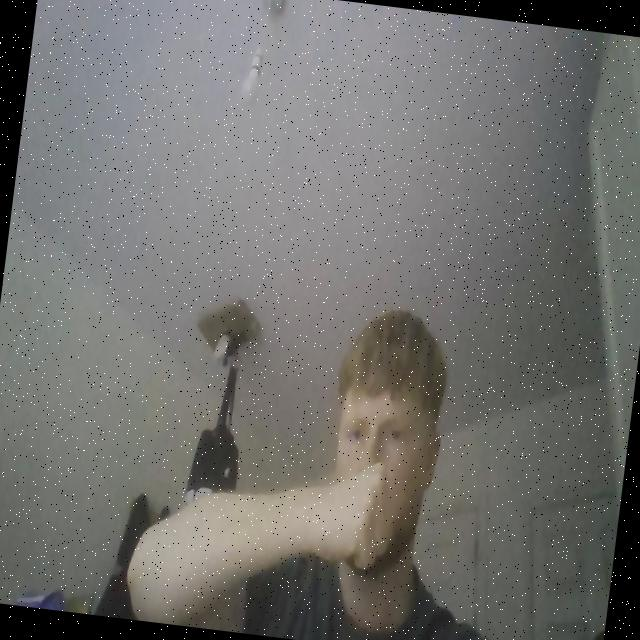rock: (302, 452, 403, 578)
